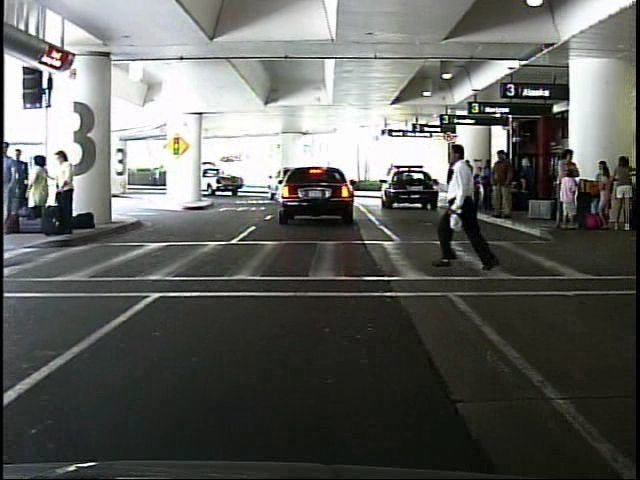person: (437, 135, 501, 279), (56, 146, 82, 237), (27, 151, 56, 231), (445, 161, 458, 205), (150, 162, 163, 189)
